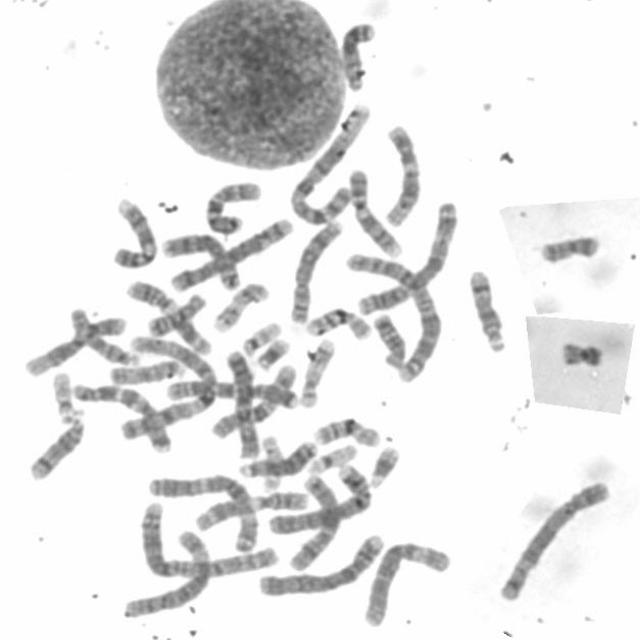A1: (115, 329, 218, 442), (284, 98, 374, 226)
A2: (340, 244, 445, 384), (136, 497, 280, 580)
A3: (352, 194, 462, 316), (143, 467, 260, 554)
B4: (253, 527, 387, 599), (263, 459, 375, 535)
B5: (493, 473, 616, 603), (164, 212, 296, 292)
C10: (207, 358, 301, 441), (200, 173, 265, 236)
C11: (122, 274, 214, 356), (191, 485, 311, 532)
C12: (20, 310, 128, 378), (380, 118, 424, 228)
C6: (357, 533, 454, 629), (118, 523, 214, 620)
C7: (66, 376, 175, 454), (160, 374, 303, 411)
C8: (285, 214, 347, 326), (157, 228, 243, 290)
C9: (344, 163, 406, 260), (108, 192, 160, 270)
D13: (237, 436, 320, 479), (337, 16, 379, 93)
D14: (23, 408, 88, 482), (464, 262, 509, 354)
D15: (65, 300, 143, 368), (103, 354, 186, 386)
E16: (301, 302, 375, 342), (309, 412, 383, 450)
E17: (209, 276, 273, 334), (297, 332, 338, 408)
E18: (142, 288, 208, 338), (370, 308, 410, 370)
F19: (302, 438, 358, 476), (256, 429, 286, 492)
F20: (535, 228, 604, 266), (554, 334, 606, 370)
G21: (364, 440, 404, 490), (251, 332, 292, 372)
G22: (47, 366, 81, 424), (238, 316, 284, 356)
X: (287, 469, 344, 572), (222, 344, 264, 462)
